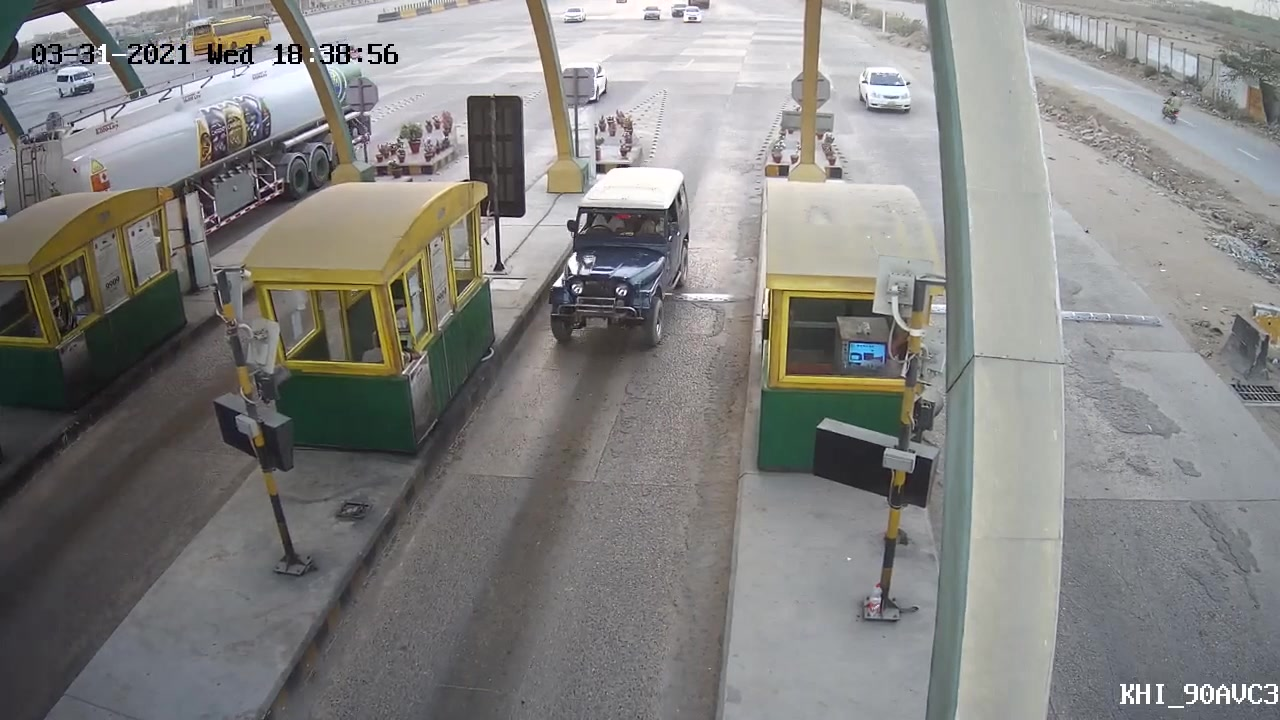F1: (538, 157, 699, 358)
